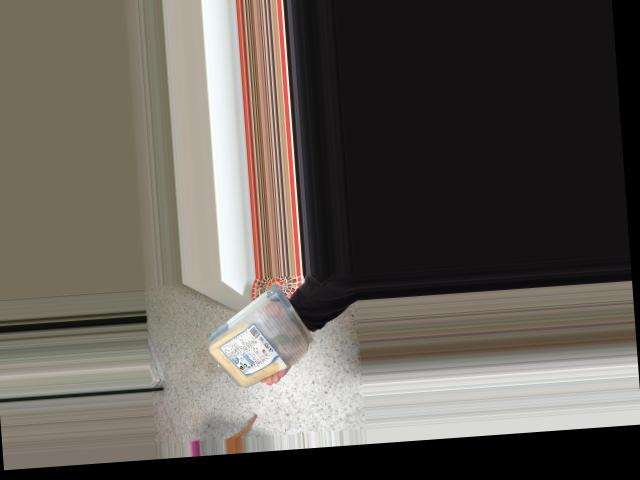cheese: (207, 297, 306, 388)
